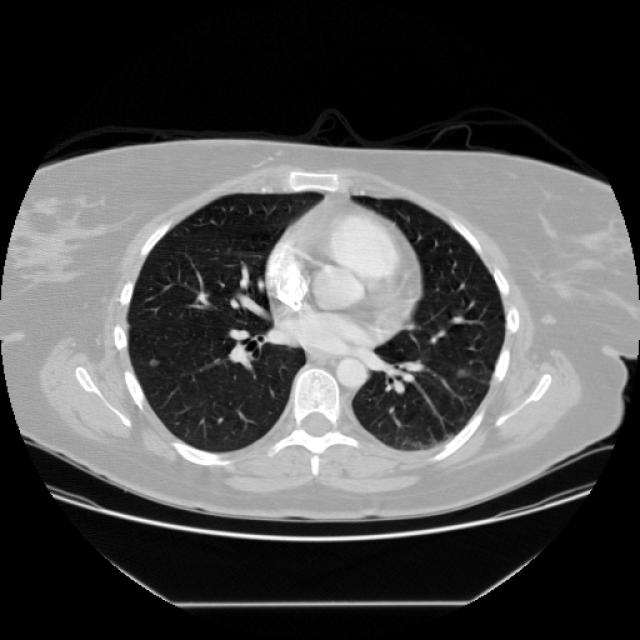nodule: (141, 350, 164, 372)
